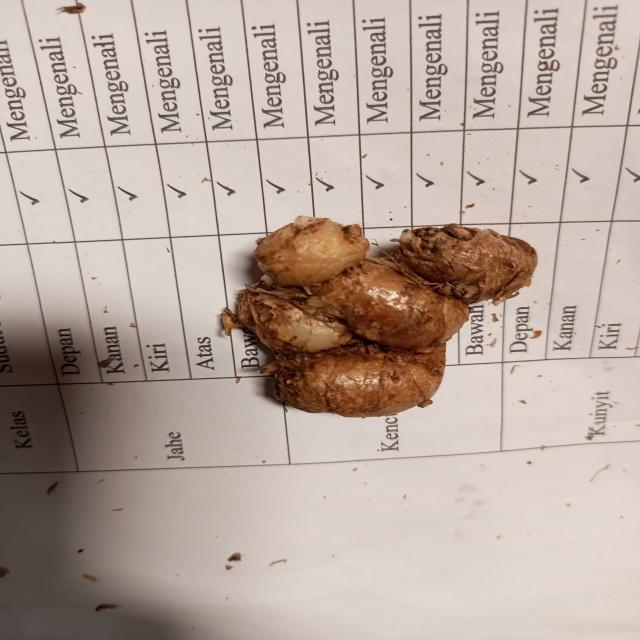ginger: (256, 234, 525, 403)
